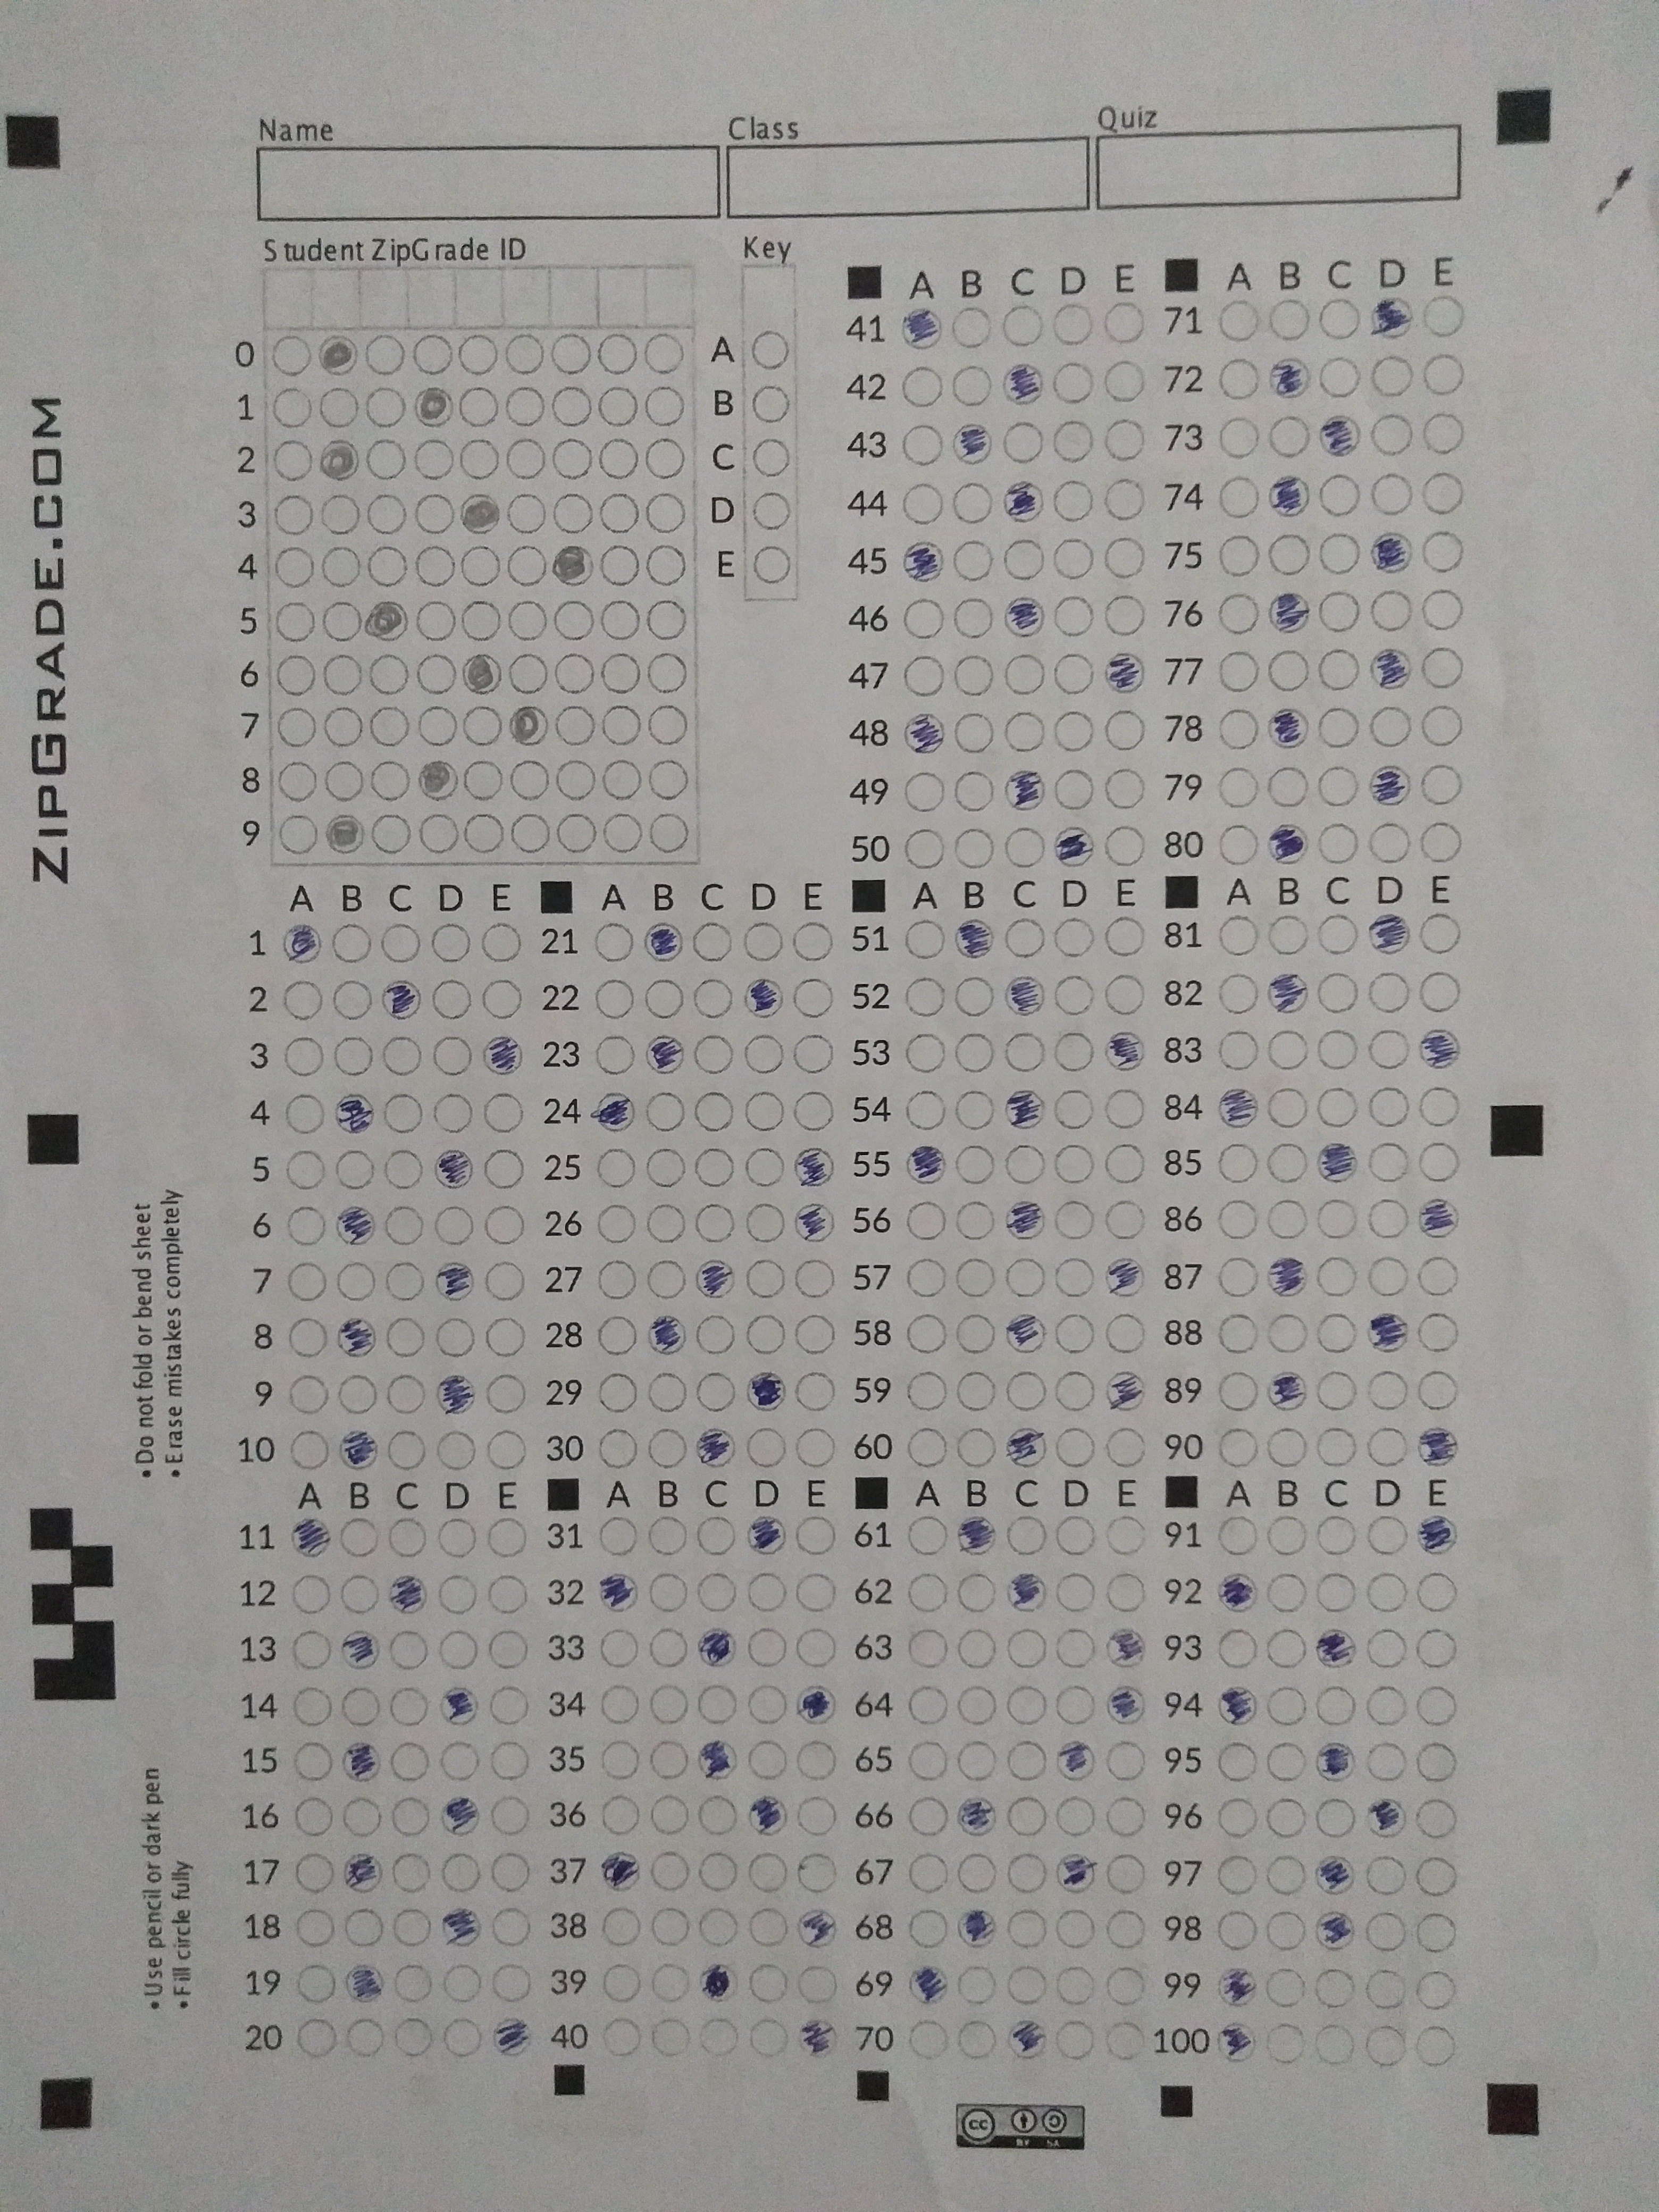not-c: (748, 543, 795, 589), (382, 1033, 427, 1078), (742, 1033, 788, 1078), (1103, 1425, 1148, 1470), (1051, 1254, 1096, 1299), (953, 1425, 999, 1470), (1216, 1254, 1262, 1299), (1316, 913, 1361, 958), (1364, 1083, 1410, 1129), (951, 711, 997, 756), (268, 333, 314, 376), (643, 489, 688, 533), (643, 435, 688, 479), (594, 333, 640, 376), (455, 333, 500, 376), (410, 333, 455, 376), (362, 333, 408, 376), (362, 385, 408, 428), (319, 705, 364, 749), (319, 599, 364, 643), (317, 543, 362, 587), (277, 813, 322, 857), (272, 653, 317, 697), (272, 597, 317, 641), (272, 545, 317, 589), (272, 493, 317, 536), (272, 439, 317, 482), (596, 383, 641, 427), (457, 385, 502, 428), (416, 812, 462, 855), (415, 705, 460, 749), (411, 545, 457, 589), (411, 491, 457, 535), (366, 704, 411, 747), (411, 437, 457, 481), (369, 812, 415, 855), (366, 651, 411, 695), (368, 758, 413, 801), (643, 596, 688, 639), (552, 597, 598, 641), (643, 543, 688, 587), (596, 489, 641, 533), (507, 756, 552, 799), (505, 651, 551, 695), (505, 545, 551, 589), (460, 759, 505, 803), (462, 702, 507, 745), (458, 597, 504, 641), (460, 545, 505, 589), (554, 812, 599, 855), (647, 756, 692, 799), (601, 756, 647, 799), (554, 756, 599, 799), (645, 702, 690, 745), (599, 705, 645, 749), (554, 702, 599, 745), (551, 651, 596, 695), (383, 1371, 429, 1414), (483, 1313, 528, 1357), (385, 1315, 430, 1359), (382, 1259, 427, 1303), (333, 1261, 378, 1305), (483, 1204, 528, 1247), (282, 1205, 328, 1249), (380, 1148, 425, 1191), (333, 1148, 378, 1191), (282, 1150, 328, 1193), (481, 1090, 526, 1134), (380, 1090, 425, 1134), (430, 1033, 476, 1076), (331, 1033, 376, 1076), (281, 1035, 326, 1078), (479, 979, 525, 1022), (479, 923, 525, 967), (429, 921, 474, 965), (378, 923, 423, 967), (329, 921, 375, 965), (383, 1428, 429, 1472), (793, 1426, 838, 1470), (594, 1313, 640, 1357), (592, 1204, 638, 1247), (690, 1033, 735, 1076), (788, 977, 833, 1021), (694, 977, 739, 1021), (592, 979, 638, 1022), (688, 920, 734, 963), (591, 921, 636, 965), (741, 1090, 786, 1134), (688, 1371, 734, 1414), (694, 1312, 739, 1355), (692, 1146, 737, 1190), (692, 1090, 737, 1134), (645, 1425, 688, 1470), (643, 1202, 688, 1245), (643, 1090, 688, 1134), (742, 921, 788, 965), (791, 1256, 836, 1299), (791, 1033, 836, 1076), (742, 1425, 788, 1468), (744, 1312, 789, 1355), (744, 1256, 789, 1299), (741, 1146, 786, 1190), (1049, 1087, 1094, 1130), (951, 1087, 997, 1130), (903, 1089, 948, 1132), (1002, 1029, 1047, 1073), (951, 1029, 997, 1073), (951, 974, 997, 1017), (1002, 916, 1047, 960), (903, 916, 948, 960), (1051, 1198, 1096, 1242), (953, 1197, 999, 1240), (1101, 1139, 1147, 1183), (1051, 1139, 1096, 1183), (1002, 1143, 1047, 1186), (951, 1256, 997, 1299), (953, 1369, 999, 1413), (1103, 1313, 1148, 1357), (1051, 1312, 1096, 1355), (1314, 1425, 1359, 1468), (1215, 1425, 1260, 1468), (1215, 1369, 1260, 1413), (1215, 1312, 1260, 1355), (1216, 1029, 1262, 1073), (1215, 1139, 1260, 1183), (1417, 913, 1462, 956), (1265, 913, 1310, 956), (1216, 914, 1262, 958), (1366, 1197, 1412, 1240), (1314, 1198, 1359, 1242), (1366, 1256, 1412, 1299), (1312, 1256, 1358, 1299), (1312, 1312, 1358, 1355), (1263, 1310, 1309, 1353), (1366, 1369, 1412, 1413), (1314, 1369, 1359, 1413), (1366, 1425, 1412, 1468), (1417, 1085, 1462, 1129), (1314, 1085, 1359, 1129), (1265, 1085, 1310, 1129), (1417, 1141, 1462, 1184), (1366, 1141, 1412, 1184), (1317, 970, 1363, 1014), (1366, 970, 1412, 1014), (1417, 970, 1462, 1014), (1366, 1028, 1412, 1071), (793, 1571, 838, 1615), (1054, 1963, 1100, 2006), (1415, 1684, 1460, 1728), (1263, 1627, 1309, 1670), (999, 420, 1044, 463), (1100, 361, 1145, 404), (1101, 301, 1147, 345), (1049, 301, 1094, 345), (1000, 303, 1046, 347), (948, 307, 993, 350), (950, 653, 995, 697), (999, 651, 1044, 695), (1101, 592, 1147, 636), (951, 597, 997, 641), (999, 536, 1044, 580), (1051, 538, 1096, 582), (1103, 535, 1148, 578), (1101, 477, 1147, 521), (951, 479, 997, 523), (903, 826, 948, 869), (903, 653, 948, 697), (903, 596, 948, 639), (1101, 418, 1147, 462), (951, 770, 997, 813), (1053, 766, 1098, 810), (1101, 765, 1147, 808), (1002, 711, 1047, 754), (1316, 472, 1361, 516), (1419, 411, 1464, 455), (1370, 411, 1415, 455), (1267, 415, 1312, 458), (1420, 352, 1466, 395), (1371, 354, 1417, 397), (1317, 354, 1363, 397), (1319, 296, 1364, 340), (1216, 298, 1262, 341), (1216, 705, 1262, 749), (1216, 648, 1262, 691), (1370, 587, 1415, 631), (1316, 589, 1361, 632), (1216, 590, 1262, 634), (1420, 529, 1466, 573), (1317, 531, 1363, 575), (1216, 533, 1262, 577), (1420, 470, 1466, 514), (1417, 822, 1462, 866), (1316, 822, 1361, 866), (1265, 763, 1310, 806), (1316, 765, 1361, 808), (1419, 702, 1464, 745), (1366, 705, 1412, 749), (1314, 704, 1359, 747), (1420, 644, 1466, 688), (1316, 648, 1361, 691), (1215, 824, 1260, 867), (483, 1428, 526, 1472), (641, 383, 685, 427), (643, 333, 687, 376), (549, 333, 592, 376), (502, 333, 545, 376), (364, 435, 408, 479), (322, 759, 366, 803), (321, 653, 364, 697), (317, 489, 361, 533), (317, 385, 361, 428), (274, 759, 317, 803), (274, 707, 317, 751), (270, 387, 314, 430), (460, 435, 504, 479), (549, 385, 592, 428), (504, 385, 547, 428), (415, 650, 458, 693), (415, 597, 458, 641), (366, 545, 410, 589), (364, 491, 408, 535), (598, 597, 641, 641), (596, 542, 640, 585), (551, 491, 594, 535), (598, 434, 641, 477), (552, 435, 596, 479), (509, 810, 552, 853), (505, 599, 549, 643), (505, 493, 549, 536), (504, 437, 547, 481), (462, 812, 505, 855), (648, 812, 692, 855), (601, 812, 645, 855), (645, 651, 688, 695), (599, 653, 643, 697), (289, 1426, 333, 1470), (483, 1372, 526, 1416), (335, 1372, 378, 1416), (286, 1371, 329, 1414), (434, 1317, 477, 1360), (286, 1315, 329, 1359), (481, 1258, 525, 1301), (284, 1259, 328, 1303), (434, 1202, 477, 1245), (382, 1202, 425, 1245), (483, 1148, 526, 1191), (430, 1090, 474, 1134), (284, 1090, 328, 1134), (430, 979, 474, 1022), (331, 977, 375, 1021), (281, 981, 324, 1024), (434, 1428, 477, 1472), (594, 1372, 638, 1416), (594, 1259, 638, 1303), (594, 1144, 638, 1188), (594, 1035, 638, 1078), (791, 921, 835, 965), (694, 1200, 737, 1244), (645, 1371, 688, 1414), (645, 1258, 688, 1301), (645, 1144, 688, 1188), (594, 1426, 638, 1470), (795, 1371, 838, 1414), (793, 1313, 836, 1357), (791, 1090, 835, 1134), (744, 1200, 788, 1244), (953, 1141, 997, 1184), (1103, 1085, 1147, 1129), (1051, 1028, 1094, 1071), (903, 1031, 946, 1075), (1103, 970, 1147, 1014), (1053, 972, 1096, 1015), (903, 975, 946, 1019), (1103, 914, 1147, 958), (1053, 916, 1096, 960), (904, 1252, 948, 1296), (1103, 1197, 1147, 1240), (904, 1197, 948, 1240), (953, 1312, 997, 1355), (906, 1312, 950, 1355), (1004, 1256, 1047, 1299), (1054, 1425, 1098, 1468), (906, 1423, 950, 1467), (1053, 1369, 1096, 1413), (1004, 1369, 1047, 1413), (906, 1369, 950, 1413), (1265, 1425, 1309, 1468), (1216, 1198, 1260, 1242), (1216, 972, 1260, 1015), (1265, 1139, 1309, 1183), (1267, 1198, 1310, 1242), (1417, 1254, 1460, 1298), (1417, 1310, 1460, 1353), (1415, 1369, 1459, 1413), (1316, 1028, 1359, 1071), (1267, 1028, 1310, 1071), (488, 1627, 532, 1670), (748, 1905, 791, 1949), (746, 2013, 789, 2057), (795, 1850, 838, 1893), (645, 1627, 688, 1670), (906, 1684, 950, 1728), (1004, 1850, 1047, 1893), (1413, 1627, 1457, 1670), (1263, 1514, 1307, 1557), (901, 421, 945, 465), (1051, 361, 1094, 404), (901, 366, 945, 409), (950, 364, 993, 408), (1053, 651, 1096, 695), (1051, 594, 1094, 637), (950, 538, 993, 582), (1053, 479, 1096, 523), (903, 768, 946, 812), (899, 481, 943, 524), (1053, 418, 1096, 462), (1103, 826, 1147, 869), (1002, 826, 1046, 869), (951, 826, 995, 869), (1105, 709, 1148, 752), (1053, 709, 1096, 752), (1370, 472, 1413, 516), (1218, 475, 1262, 519), (1218, 416, 1262, 460), (1218, 357, 1262, 401), (1420, 294, 1464, 338), (1269, 298, 1312, 341), (1216, 765, 1260, 808), (1267, 648, 1310, 691), (1422, 587, 1466, 631), (1267, 533, 1310, 577), (1368, 822, 1412, 866), (1419, 763, 1462, 806), (336, 1515, 382, 1557), (904, 1740, 950, 1782), (484, 1683, 530, 1724), (387, 1686, 432, 1728), (434, 1573, 479, 1615), (293, 2015, 338, 2057), (291, 1851, 336, 1893), (288, 1740, 333, 1782), (288, 1684, 333, 1726), (484, 1517, 530, 1559), (383, 1515, 429, 1557), (342, 2017, 387, 2059), (340, 1794, 385, 1836), (387, 1742, 432, 1784), (594, 1515, 640, 1557), (488, 1961, 533, 2003), (437, 1963, 483, 2005), (744, 1740, 789, 1782), (599, 2013, 645, 2055), (648, 2017, 694, 2059), (793, 1740, 838, 1782), (793, 1625, 838, 1667), (648, 1792, 694, 1834), (647, 1684, 692, 1726), (694, 1850, 739, 1892), (744, 1625, 789, 1667), (1051, 1514, 1096, 1555), (1006, 1514, 1051, 1555), (906, 1794, 951, 1836), (904, 1909, 950, 1951), (904, 2019, 950, 2060), (598, 1738, 643, 1780), (955, 2019, 1000, 2060), (953, 1963, 999, 2005), (953, 1684, 999, 1726), (955, 1738, 1000, 1780), (1054, 1794, 1100, 1836), (1053, 1684, 1098, 1726), (1004, 1627, 1049, 1669), (1103, 1571, 1148, 1613), (1004, 1907, 1049, 1949), (1413, 2024, 1459, 2066), (1415, 1740, 1460, 1782), (1260, 2020, 1305, 2062), (1262, 1911, 1307, 1952), (1263, 1851, 1309, 1893), (1213, 1797, 1258, 1839), (1312, 1684, 1358, 1726), (1415, 1514, 1460, 1555), (1413, 1968, 1459, 2010), (1314, 1966, 1359, 2008), (1413, 1912, 1459, 1954), (1364, 1853, 1410, 1895), (751, 491, 796, 533), (751, 326, 789, 374), (338, 1684, 382, 1726), (437, 1627, 481, 1669), (387, 1629, 430, 1670), (484, 1573, 528, 1615), (293, 1963, 336, 2005), (293, 1905, 336, 1947), (291, 1794, 335, 1836), (291, 1630, 335, 1672), (336, 1573, 380, 1615), (288, 1573, 331, 1615), (434, 1517, 477, 1559), (439, 1851, 483, 1893), (392, 2013, 436, 2055), (392, 1961, 436, 2003), (390, 1905, 434, 1947), (342, 1905, 385, 1947), (390, 1850, 434, 1892), (488, 1794, 532, 1836), (390, 1794, 434, 1836), (441, 1738, 484, 1780), (488, 1740, 532, 1782), (795, 1514, 838, 1555), (694, 1514, 737, 1555), (645, 1515, 688, 1557), (481, 1850, 525, 1892), (488, 1905, 532, 1947), (441, 2017, 484, 2059), (746, 1683, 789, 1724), (746, 1851, 789, 1893), (746, 1963, 789, 2005), (695, 2017, 739, 2059), (795, 1961, 838, 2003), (796, 1794, 840, 1836), (746, 1569, 789, 1611), (694, 1571, 737, 1613), (645, 1571, 688, 1613), (647, 1905, 690, 1947), (648, 1850, 692, 1892), (647, 1738, 690, 1780), (697, 1905, 741, 1947), (695, 1794, 739, 1836), (695, 1683, 739, 1724), (906, 1514, 950, 1555), (906, 1627, 950, 1669), (904, 1851, 948, 1893), (596, 1625, 640, 1667), (598, 1683, 641, 1724), (598, 1794, 641, 1836), (598, 1905, 641, 1947), (598, 1961, 641, 2003), (648, 1961, 692, 2003), (1006, 1794, 1049, 1836), (1006, 1738, 1049, 1780), (1004, 1683, 1047, 1724), (1053, 1627, 1096, 1669), (953, 1850, 997, 1892), (1054, 1907, 1098, 1949), (957, 1627, 1000, 1669), (955, 1573, 999, 1615), (1103, 1514, 1147, 1555), (1105, 1907, 1148, 1949), (1103, 1851, 1147, 1893), (1105, 1794, 1148, 1836), (1103, 1738, 1147, 1780), (1054, 1571, 1098, 1613), (1004, 1965, 1047, 2006), (1103, 2019, 1147, 2060), (1107, 1966, 1150, 2008), (1053, 2019, 1096, 2060), (1366, 1740, 1410, 1782), (1263, 1965, 1307, 2006), (1263, 1797, 1307, 1839), (1265, 1740, 1309, 1782), (1215, 1855, 1258, 1897), (1216, 1740, 1260, 1782), (1366, 1684, 1410, 1726), (1265, 1684, 1309, 1726), (1366, 1625, 1410, 1667), (1215, 1627, 1258, 1669), (1413, 1571, 1457, 1613), (1366, 1571, 1410, 1613), (1316, 1571, 1359, 1613), (1267, 1571, 1310, 1613), (1316, 1514, 1359, 1555), (1215, 1515, 1258, 1557), (1364, 2024, 1408, 2066), (1312, 2022, 1356, 2064), (1366, 1968, 1410, 2010), (1364, 1911, 1408, 1952), (1415, 1853, 1459, 1895), (1314, 1796, 1358, 1838), (1415, 1796, 1459, 1838), (906, 1571, 951, 1611), (1216, 1907, 1256, 1951), (645, 977, 685, 1019), (751, 383, 791, 425), (751, 439, 793, 479)
taken-c: (1265, 589, 1312, 636), (1263, 355, 1312, 401), (315, 333, 361, 380), (1002, 596, 1049, 641), (1314, 1141, 1361, 1186), (1368, 911, 1413, 958), (1370, 294, 1415, 341), (1317, 413, 1363, 460), (1368, 646, 1415, 691), (793, 1144, 838, 1190), (1004, 1425, 1049, 1470), (1215, 2019, 1260, 2064), (1366, 1310, 1412, 1355), (1267, 474, 1312, 519), (901, 712, 948, 756), (1368, 529, 1415, 573), (1366, 765, 1413, 808), (458, 489, 502, 535), (460, 651, 504, 697), (415, 758, 460, 801), (899, 307, 943, 352), (1000, 364, 1046, 408), (901, 540, 946, 583), (1101, 651, 1147, 695), (281, 921, 324, 967), (333, 1090, 376, 1136), (695, 1425, 739, 1470), (1103, 1627, 1148, 1670), (1314, 1627, 1359, 1670), (1417, 1423, 1460, 1468), (1265, 1369, 1310, 1413), (1267, 1254, 1310, 1299), (1415, 1197, 1460, 1240), (1417, 1028, 1462, 1071), (1004, 766, 1046, 813), (1267, 820, 1309, 867), (317, 439, 361, 482), (552, 543, 596, 587), (1002, 479, 1046, 523), (1053, 826, 1096, 869), (744, 1369, 788, 1413), (694, 1258, 737, 1301), (1002, 1087, 1046, 1130), (904, 1141, 948, 1184), (1004, 1198, 1047, 1242), (343, 1961, 387, 2005), (744, 1514, 788, 1557), (796, 1907, 840, 1951), (1054, 1738, 1098, 1782), (955, 1514, 999, 1557), (1216, 1966, 1260, 2010), (1364, 1797, 1408, 1841), (1314, 1740, 1358, 1784), (1216, 1571, 1260, 1615), (1366, 1514, 1410, 1557), (1265, 970, 1309, 1014), (413, 385, 455, 430), (335, 1204, 376, 1249), (594, 1089, 636, 1134), (1006, 1310, 1047, 1355), (289, 1517, 335, 1559), (1314, 1907, 1356, 1952), (1314, 1851, 1356, 1897), (1265, 707, 1310, 749), (368, 599, 410, 643), (507, 705, 551, 747), (647, 1313, 688, 1357), (643, 920, 685, 963), (1103, 1028, 1145, 1071), (1107, 1369, 1148, 1413), (491, 2013, 533, 2057), (439, 1905, 483, 1947), (437, 1796, 481, 1838), (342, 1740, 383, 1784), (387, 1573, 430, 1615), (596, 1571, 640, 1613), (695, 1738, 739, 1780), (599, 1850, 641, 1893), (955, 1907, 999, 1949), (1004, 1571, 1047, 1613), (1216, 1087, 1260, 1129), (955, 916, 995, 961), (380, 979, 422, 1021), (335, 1315, 376, 1357), (434, 1374, 476, 1416), (744, 977, 786, 1019), (1004, 974, 1046, 1015), (342, 1851, 383, 1893), (338, 1627, 380, 1669), (746, 1794, 788, 1836), (908, 1965, 950, 2006), (1054, 1853, 1096, 1895), (1105, 1684, 1147, 1726), (1216, 1684, 1258, 1726), (324, 813, 368, 853), (951, 421, 992, 465), (481, 1035, 525, 1075), (434, 1148, 474, 1191), (1103, 1258, 1147, 1298), (695, 1627, 739, 1667), (795, 1686, 838, 1726), (955, 1796, 999, 1836), (338, 1430, 380, 1470), (645, 1035, 685, 1076), (699, 1963, 739, 2005), (796, 2017, 838, 2057), (1007, 2019, 1049, 2059), (434, 1261, 474, 1301), (793, 1204, 835, 1242), (437, 1686, 479, 1724)
